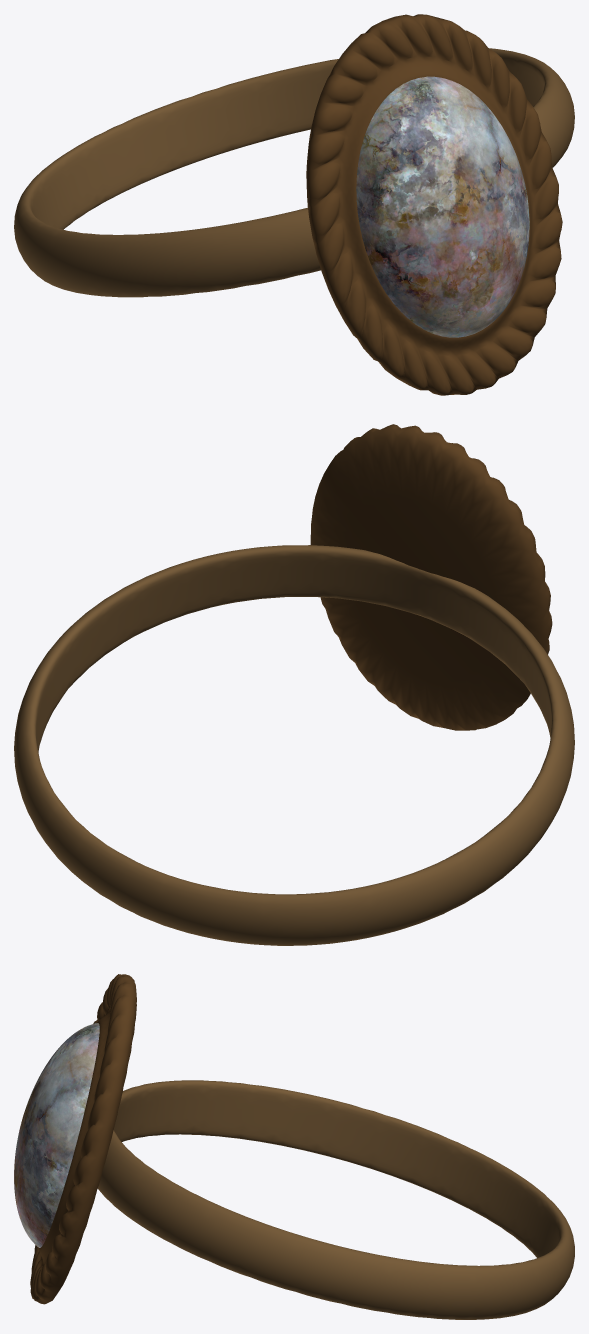
Rendered from ring.fbx.
3 renders of one model, top to bottom at view 1: azimuth 30°, elevation 25°; view 2: azimuth 150°, elevation 25°; view 3: azimuth 270°, elevation 25°, orthographic. The views are drawn at different scales.
Visible parts, largest first — view 1: Circle; view 2: Circle; view 3: Circle.
Boxes of the visible parts, bbox=[...] form: Circle: bbox=[14, 14, 574, 395]; Circle: bbox=[14, 424, 574, 945]; Circle: bbox=[14, 974, 574, 1319].
Bounding box in the file's own units: 1.02 × 0.6826 × 1.14.
Materials: 3 (1 with a texture image).
